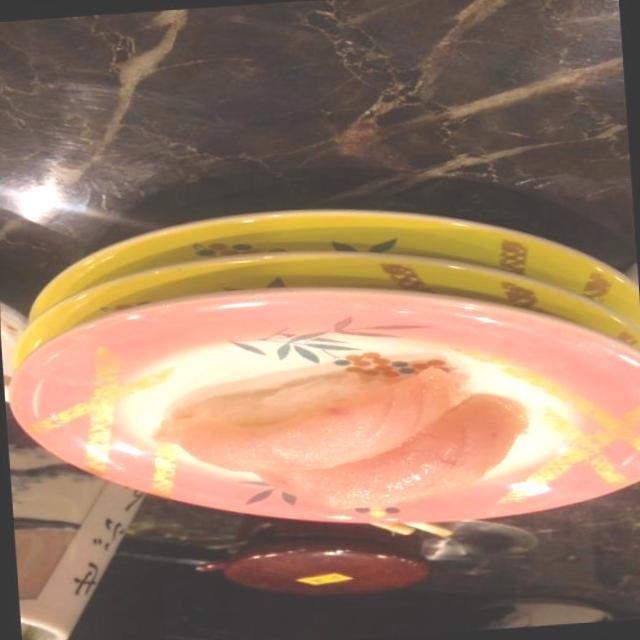Sushi: (159, 344, 525, 526)
